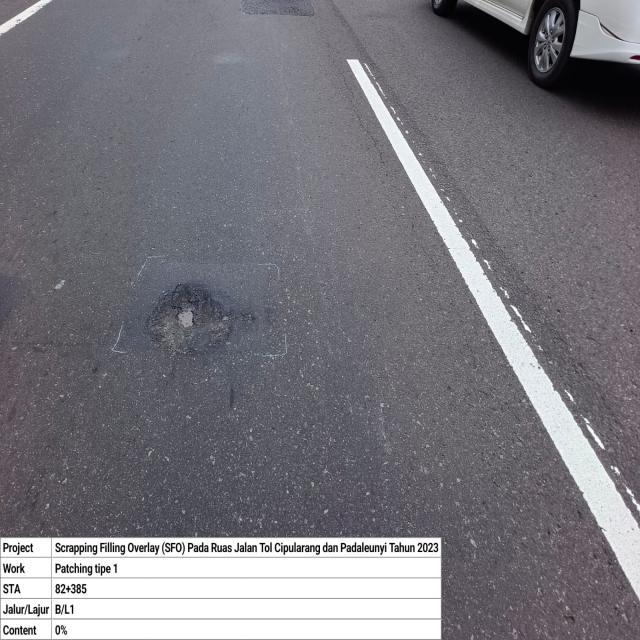Buraco: (140, 280, 240, 362)
